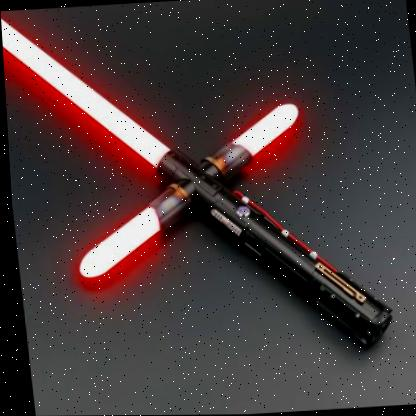lightsaber: (0, 0, 399, 376)
